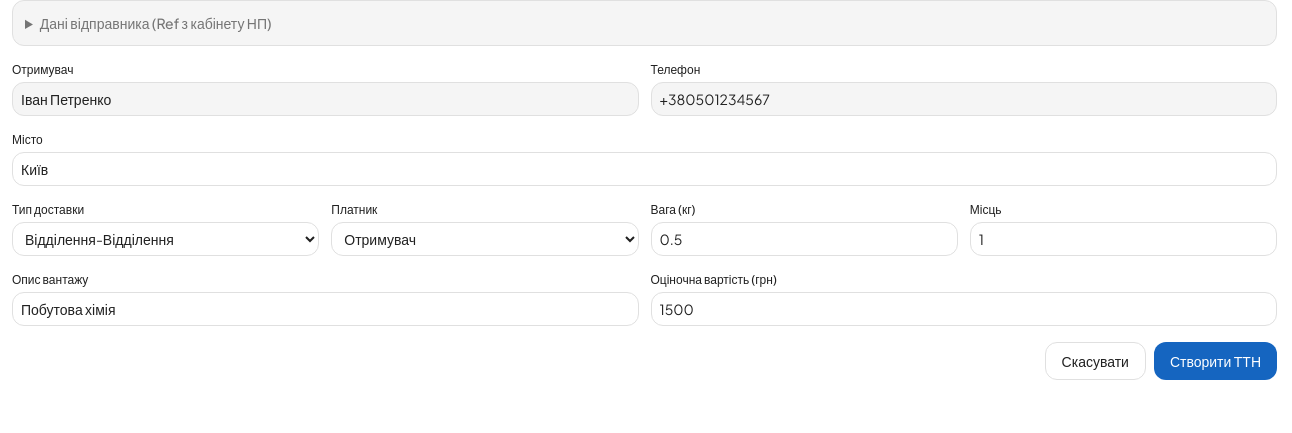
CreateTTNForm › shows validation error when sender fields are empty
This screenshot has width=1292, height=433.
What coordinates should you click on to do the following:
click the button "Створити ТТН"
I would click on:
 (1215, 361)
Its box is [1154,342,1277,380].
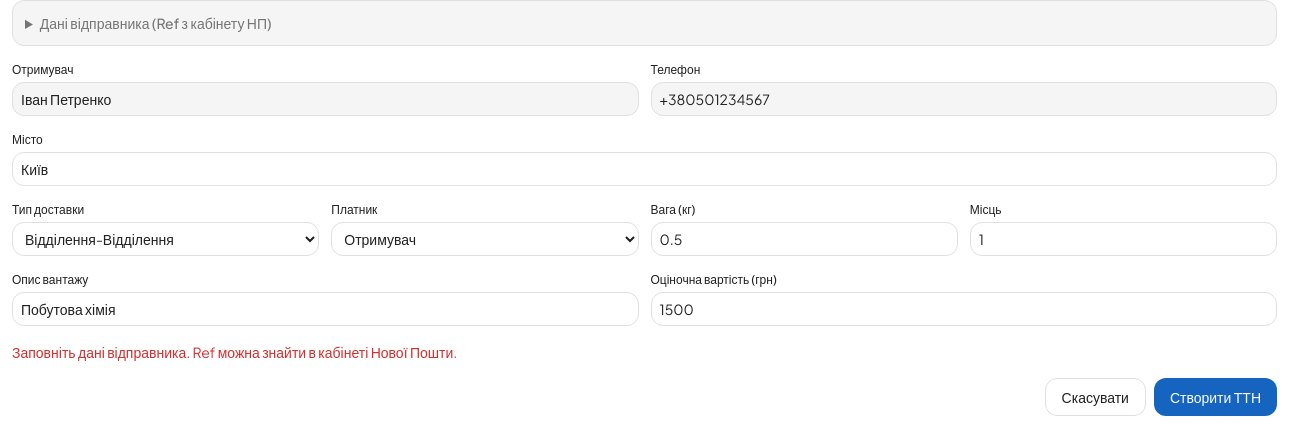
Result: the text "Заповніть дані відправника" is shown at [12,343,457,361]
